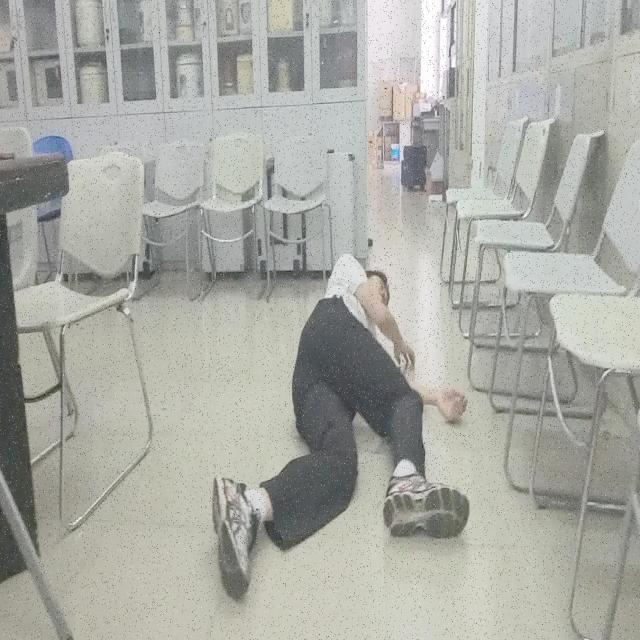fall: (210, 255, 467, 607)
